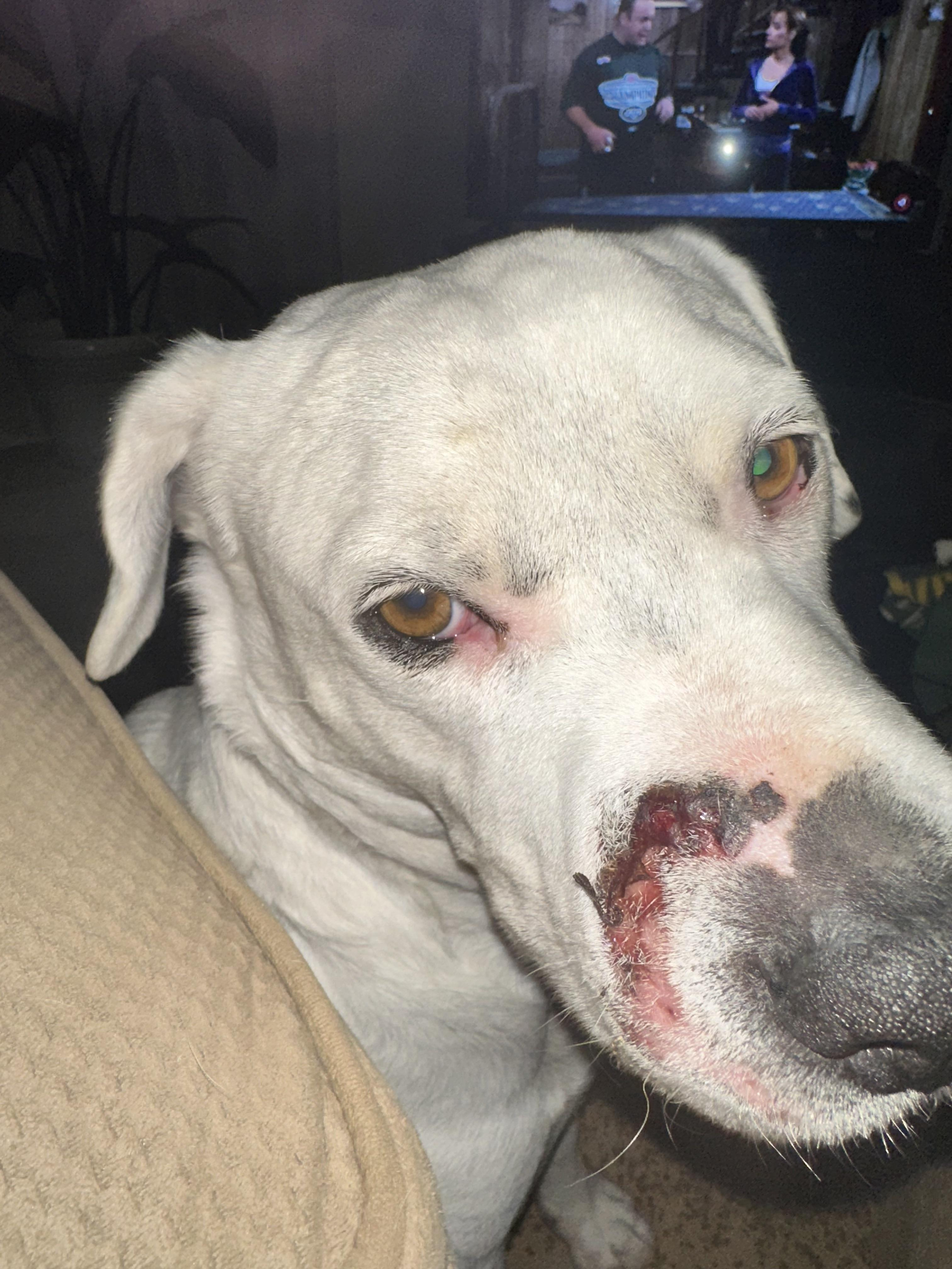cut: (504, 750, 825, 1107)
